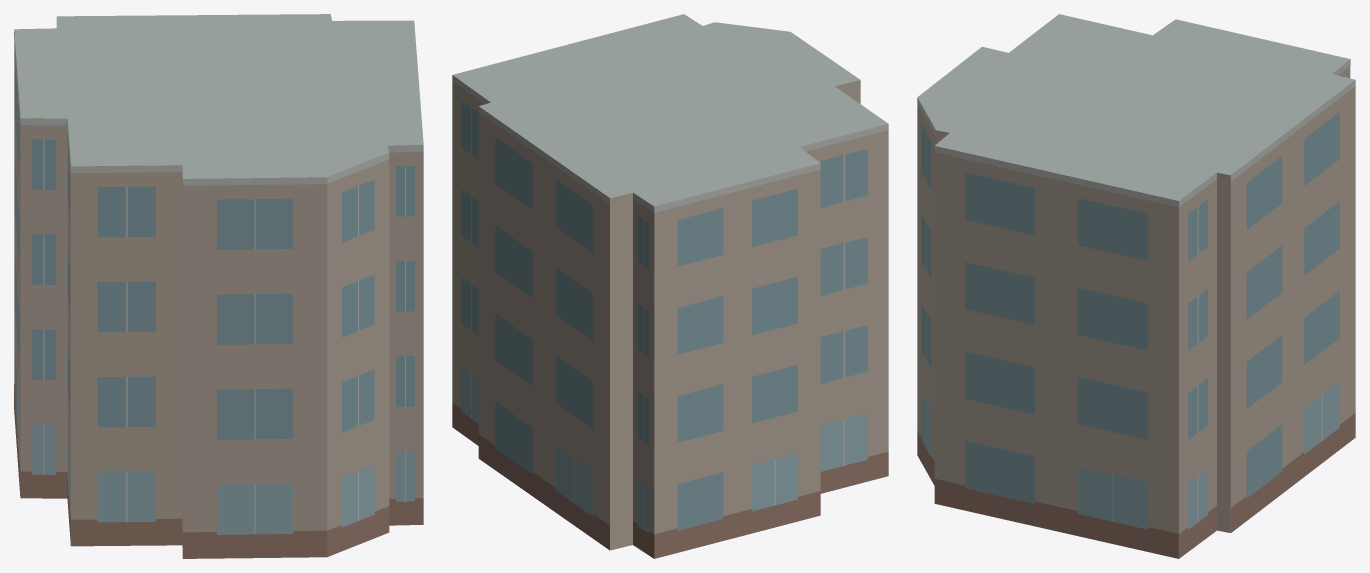
File: survey-upis-32957570.glb
3 views of the same model, side by side, from view 1: azimuth 30°, elevation 25°; view 2: azimuth 150°, elevation 25°; view 3: azimuth 270°, elevation 25° (orthographic). The views are drawn at different scales.
Visible parts, largest first — view 1: survey-upis-32957570.tmp; view 2: survey-upis-32957570.tmp; view 3: survey-upis-32957570.tmp.
Part boxes in pixels (left/top/right/bottom): survey-upis-32957570.tmp: left=14, top=14, right=423, bottom=558; survey-upis-32957570.tmp: left=452, top=14, right=888, bottom=558; survey-upis-32957570.tmp: left=917, top=14, right=1355, bottom=558.
Size of the model in its own units: 15.22 by 13.57 by 15.07.
